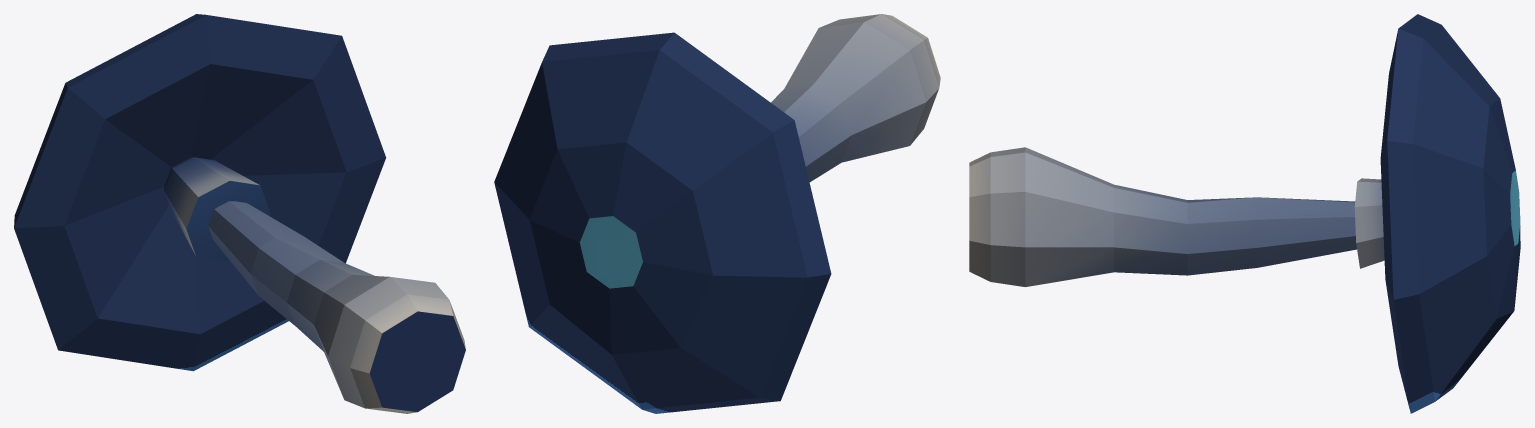
File: Hongo-Suelo.fbx
3 renders of one model, left to right at view 1: azimuth 30°, elevation 25°; view 2: azimuth 150°, elevation 25°; view 3: azimuth 270°, elevation 25°, orthographic.
Visible parts, largest first — view 1: Hongo-suelo; view 2: Hongo-suelo; view 3: Hongo-suelo.
Boxes of the visible parts, left/top/right/bottom form: Hongo-suelo: left=14, top=14, right=465, bottom=413; Hongo-suelo: left=494, top=14, right=940, bottom=413; Hongo-suelo: left=969, top=14, right=1520, bottom=413.
Bounding box in the file's own units: 36.08 × 36.16 × 48.86.
